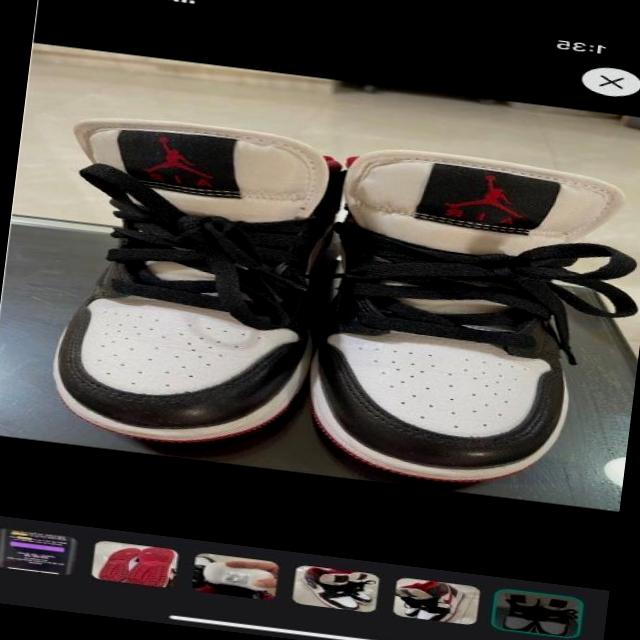nike_fake_jordan: (285, 137, 634, 500), (39, 104, 348, 458)
